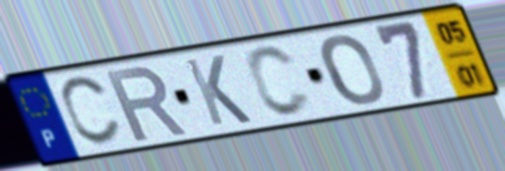7: (369, 20, 429, 103)
C: (243, 43, 316, 120), (57, 72, 125, 149)
K: (181, 53, 256, 129)
O: (318, 32, 387, 109)
R: (101, 63, 191, 145)
